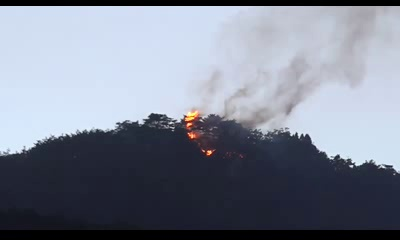smoke: (221, 8, 374, 116)
